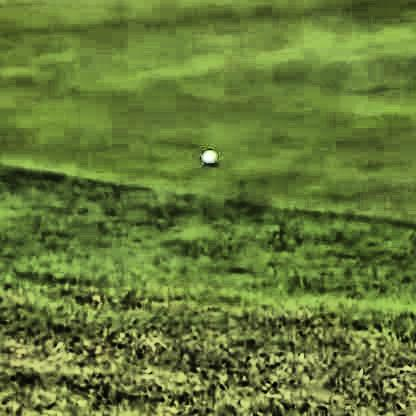golfball: (198, 146, 216, 164)
